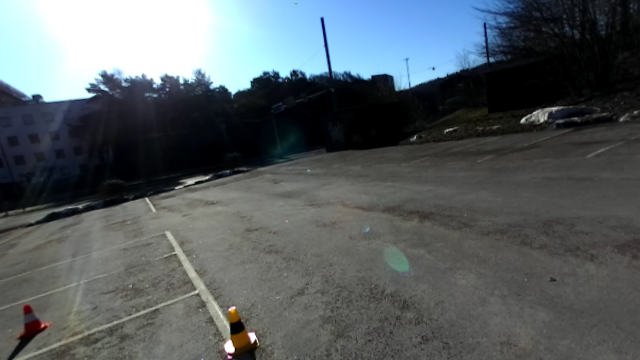orange: (16, 304, 54, 339)
yellow: (219, 301, 261, 355)
